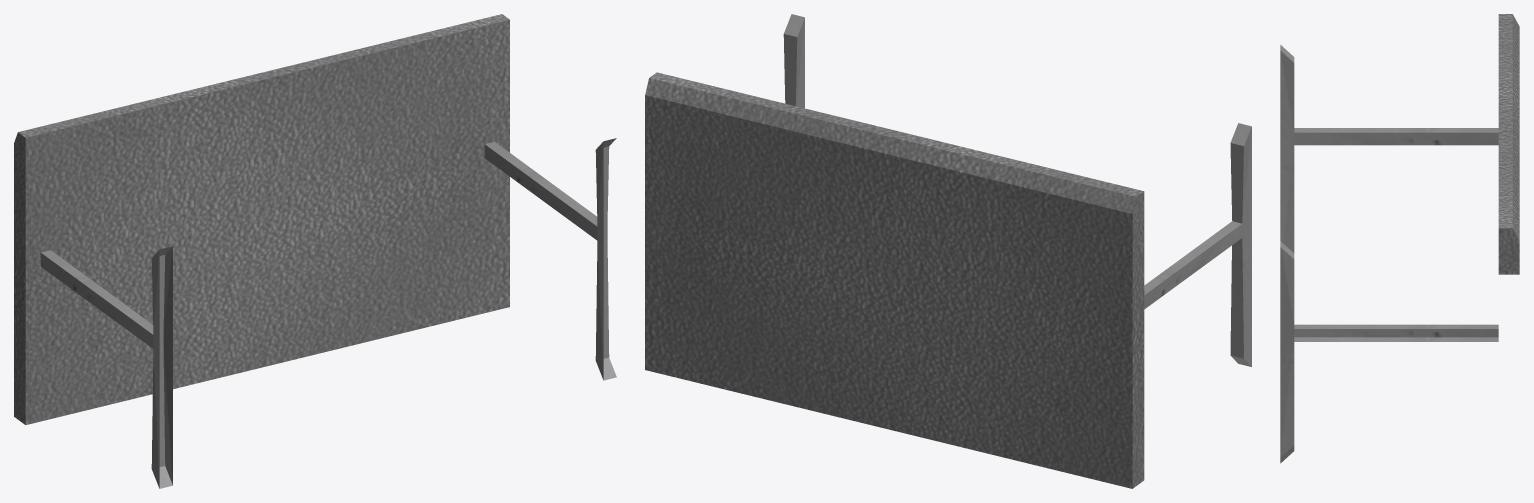
File: Table3.FBX
3 views of the same model, side by side, from view 1: azimuth 30°, elevation 25°; view 2: azimuth 150°, elevation 25°; view 3: azimuth 270°, elevation 25° (orthographic). The views are drawn at different scales.
Visible parts, largest first — view 1: Model002; view 2: Model002; view 3: Model002.
Part boxes in pixels (<box>): Model002: <box>14,14,616,488</box>; Model002: <box>645,14,1251,488</box>; Model002: <box>1280,14,1519,463</box>.
Size of the model in its own units: 184 by 104 by 86.69.
2 materials, 2 textured.
